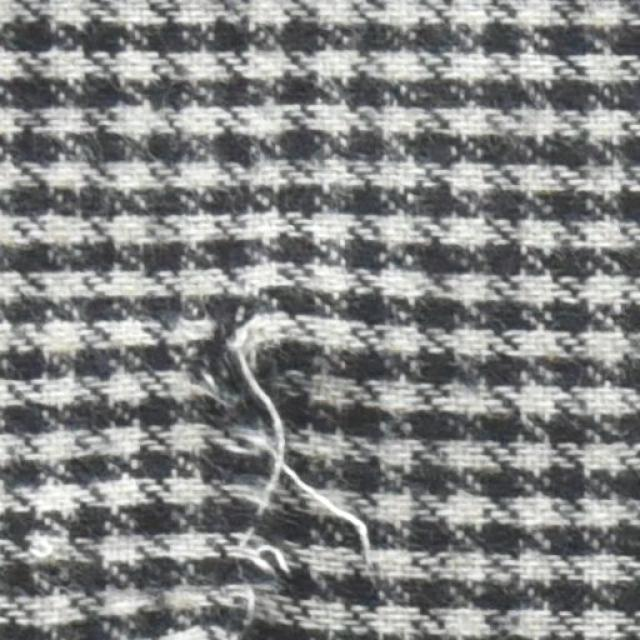Snag: (187, 311, 389, 639)
